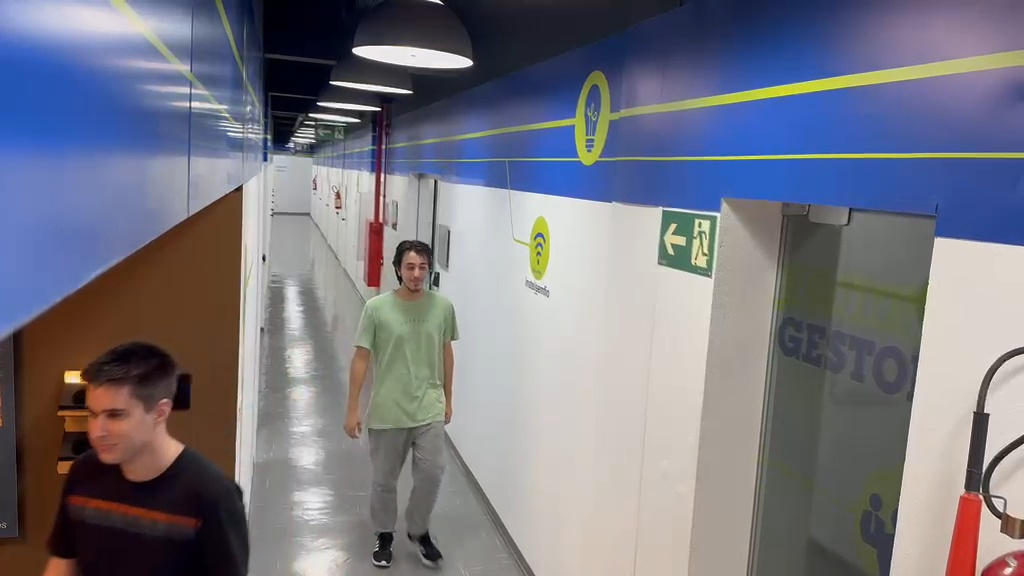person: (42, 339, 249, 571), (344, 238, 459, 569)
